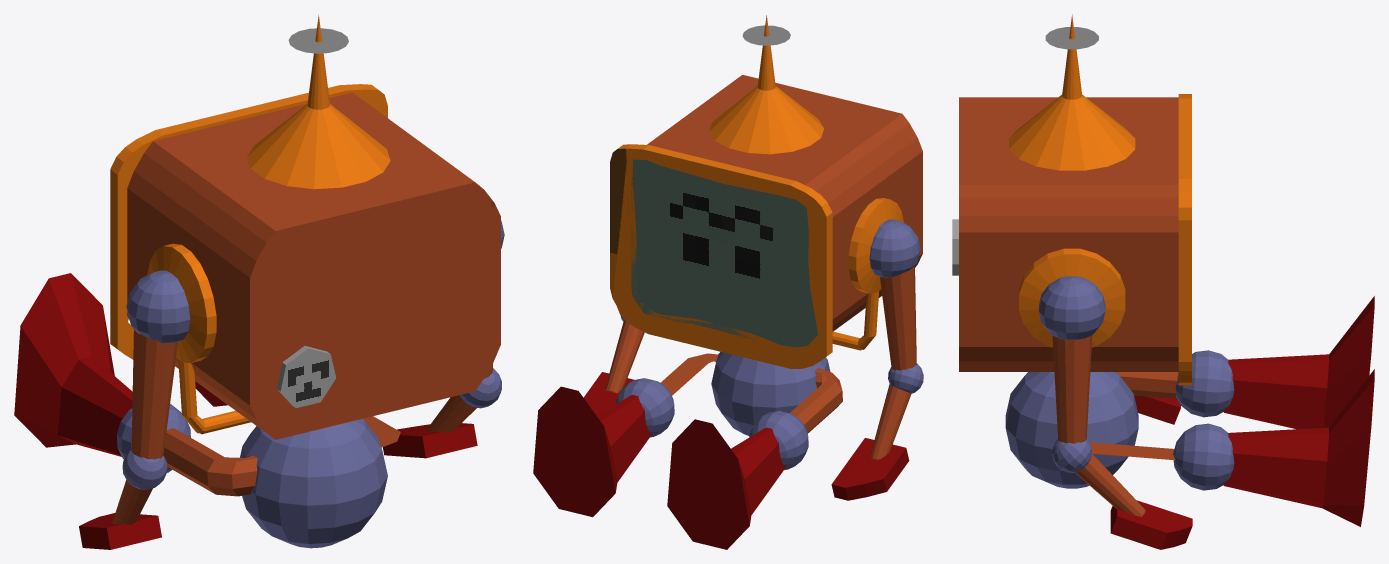
Rendered from mike_the_tv.gltf.
3 renders of one model, left to right at view 1: azimuth 30°, elevation 25°; view 2: azimuth 150°, elevation 25°; view 3: azimuth 270°, elevation 25°, orthographic. The views are drawn at different scales.
Parts seen in each view (by area): view 1: caixa, pé E, centro, antena, moldura Tela, braço E 1, ombro E 1, perna E, ombro E 2, tomada, mão D, mão E (+7 smaller); view 2: caixa, moldura Tela, pé D, pé E, antena, centro, braço E 1, mão E, ombro E 1, ombro E 2, joelho D, joelho E (+7 smaller); view 3: caixa, pé D, pé E, centro, antena, ombro D 1, moldura Tela, braço D 1, ombo D 2, joelho D, joelho E, mão D (+5 smaller).
Part boxes in pixels (x1=…): caixa: x1=127, y1=92, x2=500, y2=439; pé E: x1=14, y1=273, x2=132, y2=456; centro: x1=240, y1=418, x2=387, y2=548; antena: x1=247, y1=14, x2=390, y2=189; moldura Tela: x1=110, y1=84, x2=387, y2=359; braço E 1: x1=131, y1=329, x2=177, y2=459; ombro E 1: x1=147, y1=243, x2=216, y2=363; perna E: x1=163, y1=428, x2=257, y2=496; ombro E 2: x1=126, y1=270, x2=190, y2=343; tomada: x1=277, y1=346, x2=335, y2=408; mão D: x1=383, y1=423, x2=477, y2=458; mão E: x1=79, y1=513, x2=161, y2=549; caixa: x1=631, y1=74, x2=922, y2=347; moldura Tela: x1=610, y1=144, x2=832, y2=368; pé D: x1=533, y1=386, x2=651, y2=517; pé E: x1=667, y1=419, x2=785, y2=549; antena: x1=709, y1=15, x2=823, y2=154; centro: x1=711, y1=352, x2=830, y2=435; braço E 1: x1=880, y1=266, x2=916, y2=370; mão E: x1=831, y1=438, x2=909, y2=500; ombro E 1: x1=848, y1=198, x2=903, y2=293; ombro E 2: x1=869, y1=219, x2=920, y2=277; joelho D: x1=615, y1=378, x2=674, y2=437; joelho E: x1=749, y1=411, x2=808, y2=470; caixa: x1=959, y1=97, x2=1178, y2=371; pé D: x1=1223, y1=369, x2=1374, y2=526; pé E: x1=1223, y1=296, x2=1374, y2=429; centro: x1=1005, y1=372, x2=1138, y2=488; antena: x1=1009, y1=14, x2=1135, y2=170; ombro D 1: x1=1019, y1=248, x2=1125, y2=347; moldura Tela: x1=1178, y1=94, x2=1191, y2=385; braço D 1: x1=1052, y1=335, x2=1092, y2=443; ombo D 2: x1=1039, y1=276, x2=1105, y2=339; joelho D: x1=1173, y1=423, x2=1234, y2=490; joelho E: x1=1175, y1=350, x2=1234, y2=417; mão D: x1=1110, y1=500, x2=1192, y2=549.
Size of the model in its own units: 0.1813 by 0.2446 by 0.1981.
3 materials, 3 textured.
